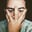face: (7, 1, 26, 22)
